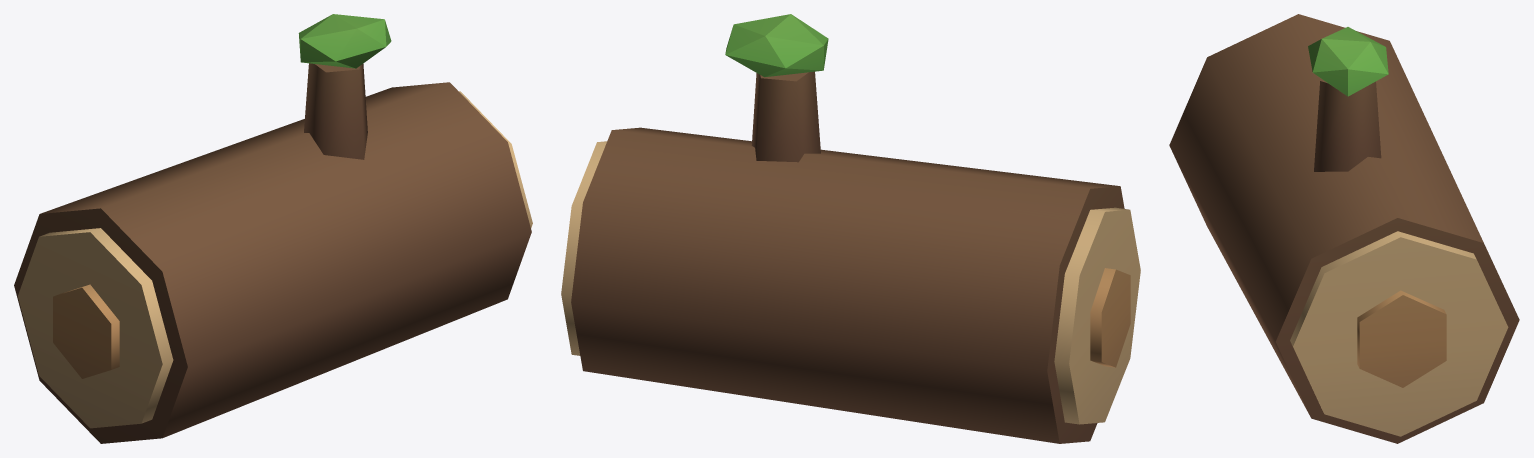
File: item_wood_log.glb
3 renders of one model, left to right at view 1: azimuth 30°, elevation 25°; view 2: azimuth 150°, elevation 25°; view 3: azimuth 270°, elevation 25°, orthographic. The views are drawn at different scales.
Visible parts, largest first — view 1: item_wood_log; view 2: item_wood_log; view 3: item_wood_log.
Part boxes in pixels (x1=…): item_wood_log: x1=14, y1=14, x2=532, y2=443; item_wood_log: x1=561, y1=14, x2=1140, y2=443; item_wood_log: x1=1169, y1=14, x2=1519, y2=443.
Size of the model in its own units: 1.47 by 1.04 by 0.955.
1 material, 1 textured.
